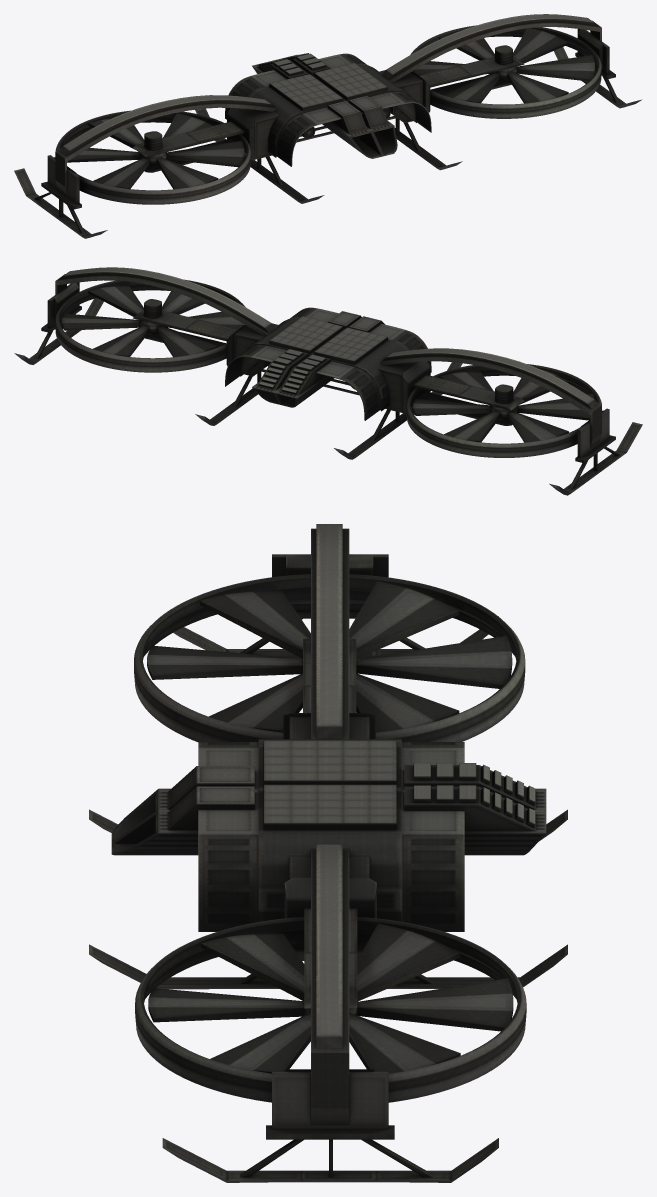
3 views of the same model, one above another, from view 1: azimuth 30°, elevation 25°; view 2: azimuth 150°, elevation 25°; view 3: azimuth 270°, elevation 25° (orthographic). The views are drawn at different scales.
Visible parts, largest first — view 1: helicopter_box; view 2: helicopter_box; view 3: helicopter_box.
Boxes of the visible parts, x1,y1,x2,y2 form: helicopter_box: (14,14,641,238); helicopter_box: (14,267,642,495); helicopter_box: (89,524,567,1182).
Size of what is drawn, in the model's own units: 0.772 by 0.1219 by 0.2938.
Materials: 1 (1 with a texture image).
